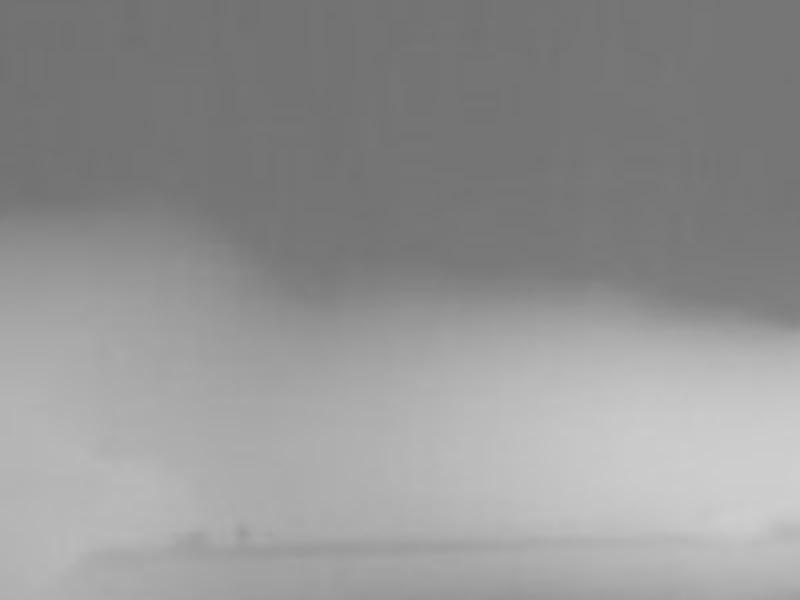defect: (175, 528, 212, 553), (232, 524, 254, 544)
